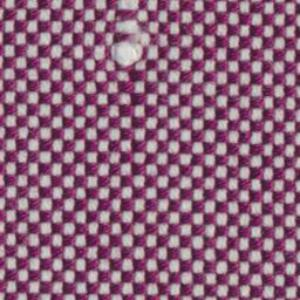defect: (107, 2, 149, 72)
